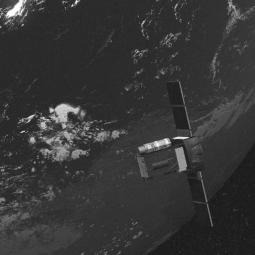soho: (129, 86, 224, 234)
